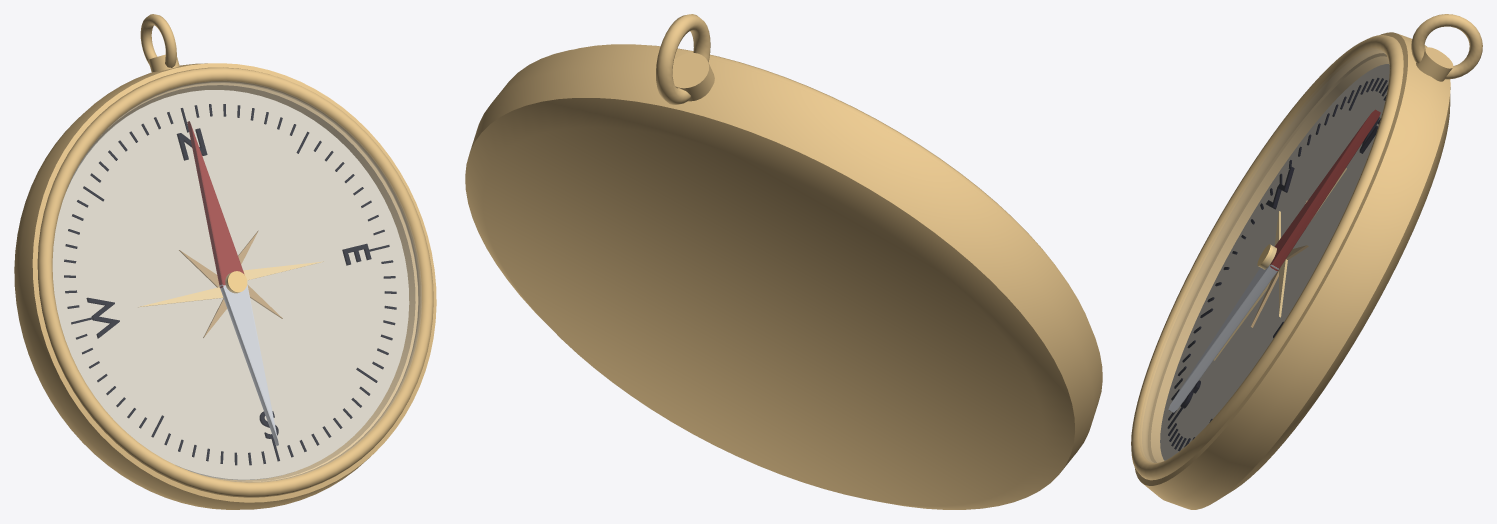
The model's file is compass.glb.
3 views of the same model, side by side, from view 1: azimuth 30°, elevation 25°; view 2: azimuth 150°, elevation 25°; view 3: azimuth 270°, elevation 25° (orthographic). The views are drawn at different scales.
Parts seen in each view (by area): view 1: glass, dial, case, bezel, needleS, needleN, ring, rose.004, rose, lW; view 2: case, bezel, ring, knob; view 3: glass, case, dial, bezel, needleN, needleS, ring, knob.
Boxes of the visible parts, x1,y1,x2,y2 form: glass: [53, 82, 420, 482]; dial: [52, 90, 409, 480]; case: [14, 63, 436, 509]; bezel: [37, 67, 433, 497]; needleS: [219, 284, 278, 445]; needleN: [187, 121, 244, 288]; ring: [140, 14, 176, 67]; rose.004: [138, 287, 223, 307]; rose: [243, 261, 323, 280]; lW: [86, 297, 119, 338]; case: [465, 46, 1102, 509]; bezel: [577, 44, 1088, 321]; ring: [656, 14, 710, 105]; knob: [672, 52, 714, 101]; glass: [1142, 50, 1389, 462]; case: [1135, 32, 1450, 509]; dial: [1160, 64, 1389, 460]; bezel: [1131, 35, 1403, 480]; needleN: [1270, 109, 1380, 270]; needleS: [1168, 264, 1278, 412]; ring: [1411, 14, 1482, 79]; knob: [1416, 47, 1453, 81].
Bounding box in the file's own units: 1.26 × 1.24 × 0.8434.
